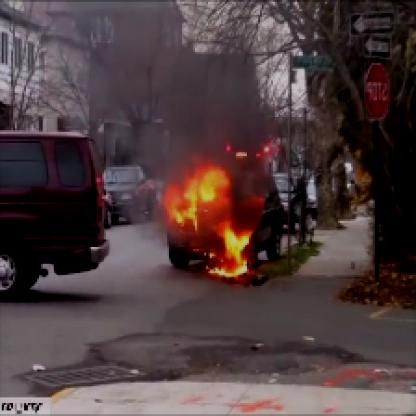Fire: (162, 163, 266, 275)
